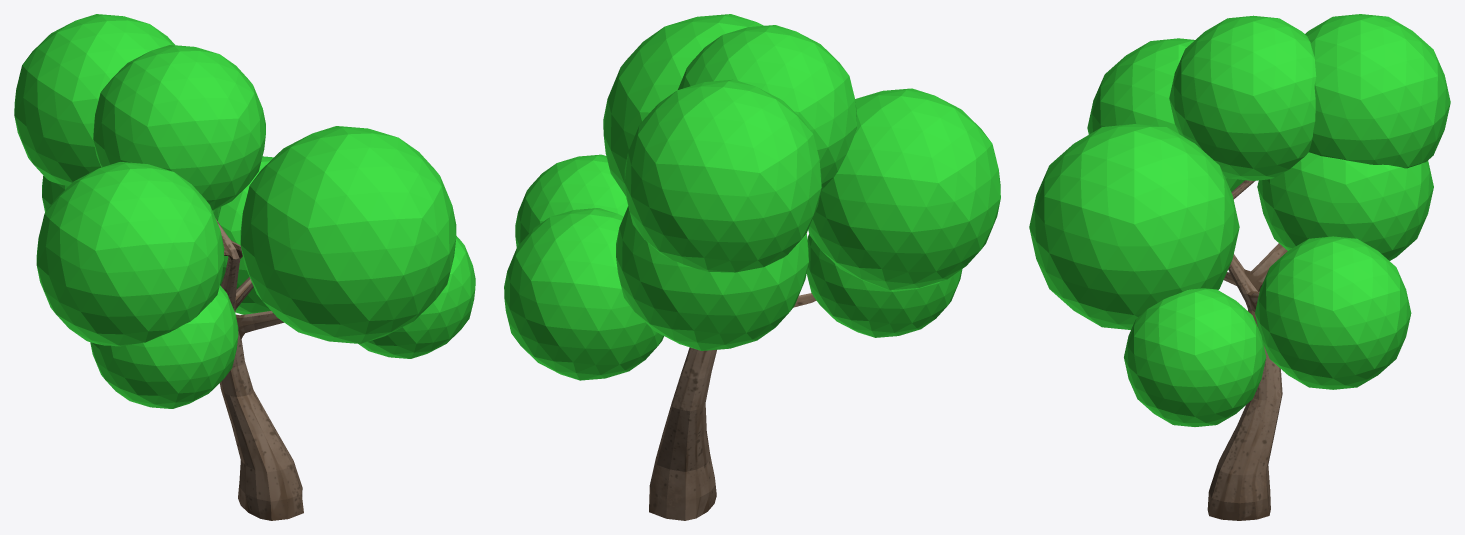
Rendered from TreeFull.fbx.
The picture shows the model from 3 angles, left to right: view 1: azimuth 30°, elevation 25°; view 2: azimuth 150°, elevation 25°; view 3: azimuth 270°, elevation 25°; orthographic projection. The views are drawn at different scales.
Parts seen in each view (by area): view 1: Tree.031; view 2: Tree.031; view 3: Tree.031.
Boxes of the visible parts, x1=… form: Tree.031: x1=14, y1=14, x2=475, y2=520; Tree.031: x1=504, y1=14, x2=1000, y2=520; Tree.031: x1=1029, y1=14, x2=1450, y2=520.
Size of the model in its own units: 181 by 193 by 163.
